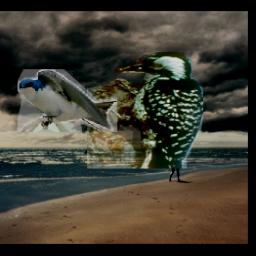Swallow: (18, 70, 117, 133)
Woodpecker: (88, 52, 204, 169)
